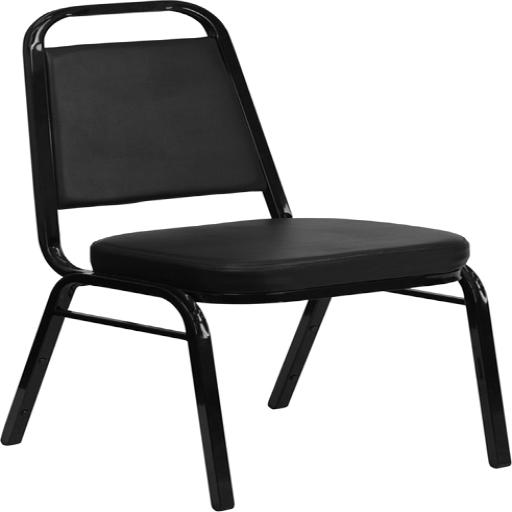chair: (4, 4, 499, 490)
